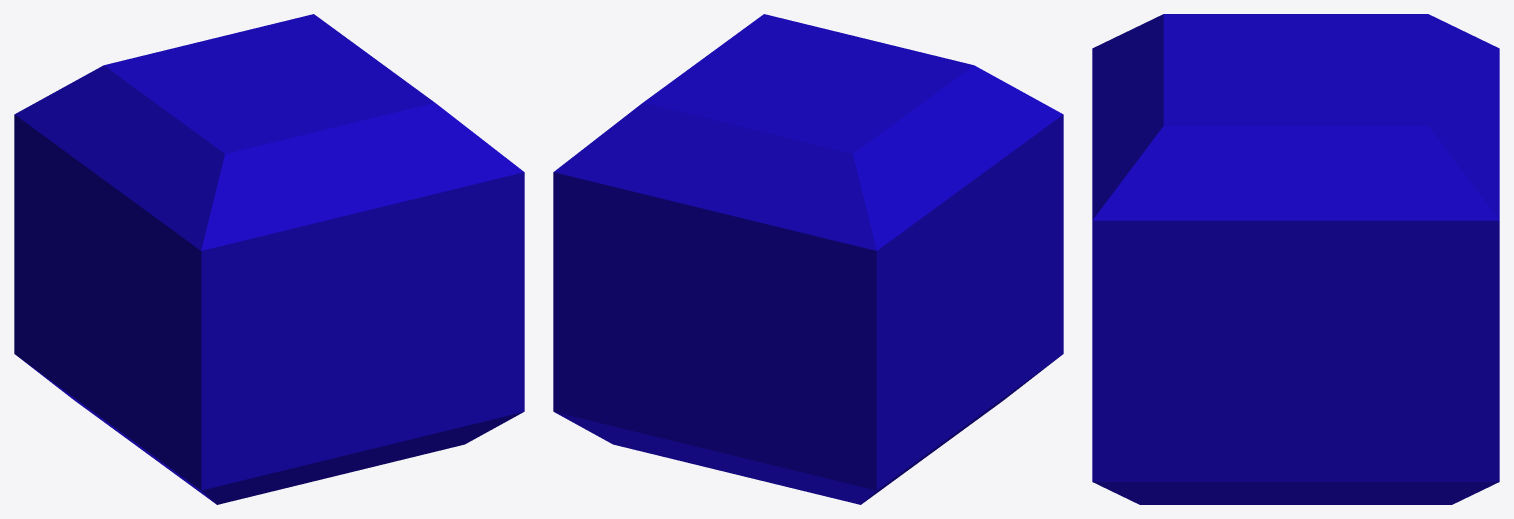
The picture shows the model from 3 angles, left to right: view 1: azimuth 30°, elevation 25°; view 2: azimuth 150°, elevation 25°; view 3: azimuth 270°, elevation 25°; orthographic projection. The views are drawn at different scales.
Visible parts, largest first — view 1: Cube; view 2: Cube; view 3: Cube.
Part boxes in pixels (left/top/right/bottom): Cube: left=14, top=14, right=524, bottom=504; Cube: left=553, top=14, right=1063, bottom=504; Cube: left=1092, top=14, right=1499, bottom=504.
Bounding box in the file's own units: 2 × 2 × 2.
